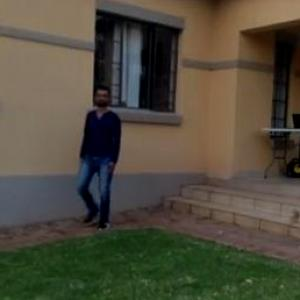follow: (86, 78, 134, 237)
